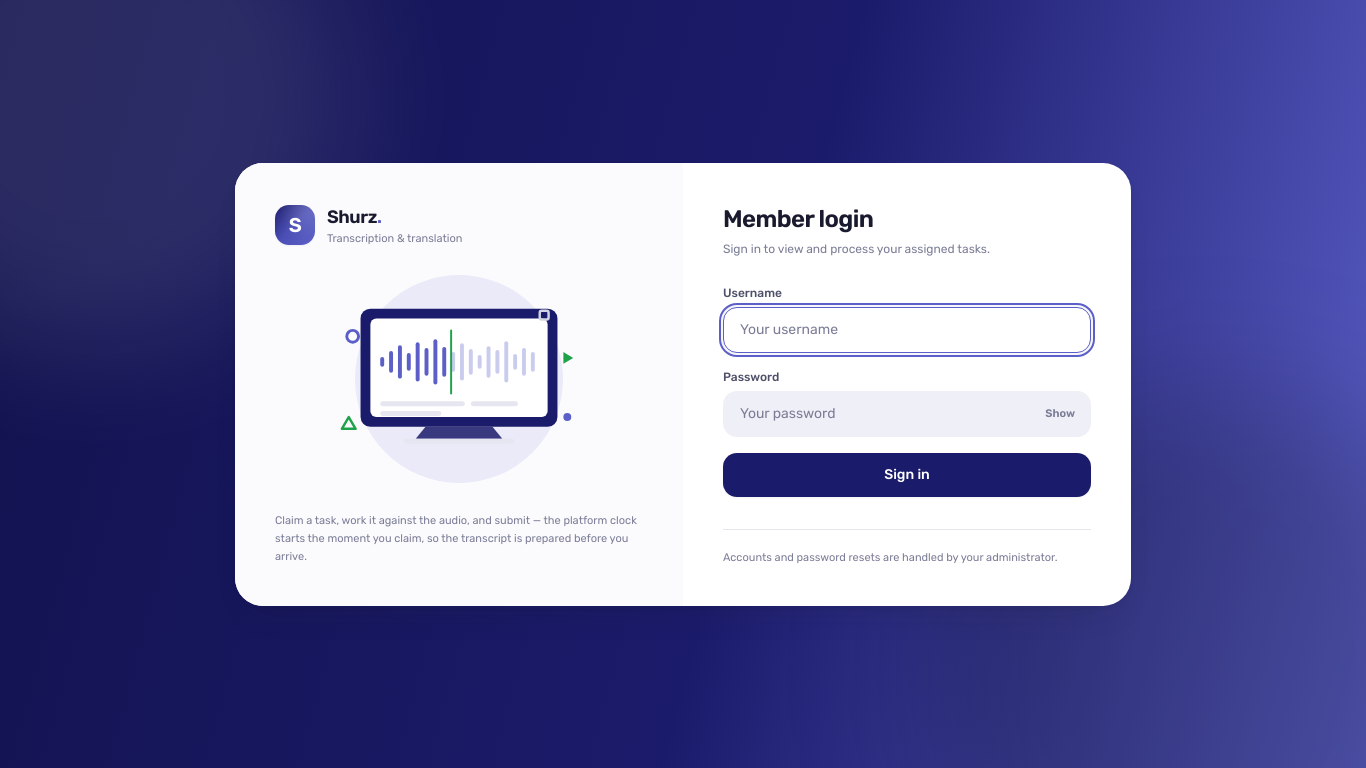
Scenario: a 401 from the auth endpoints is an answer, not an expiry › shows the server's reason for a rejected sign-in
Type "ana" into the field labelled "Username" at point(907, 330), box [723,306,1091,352]
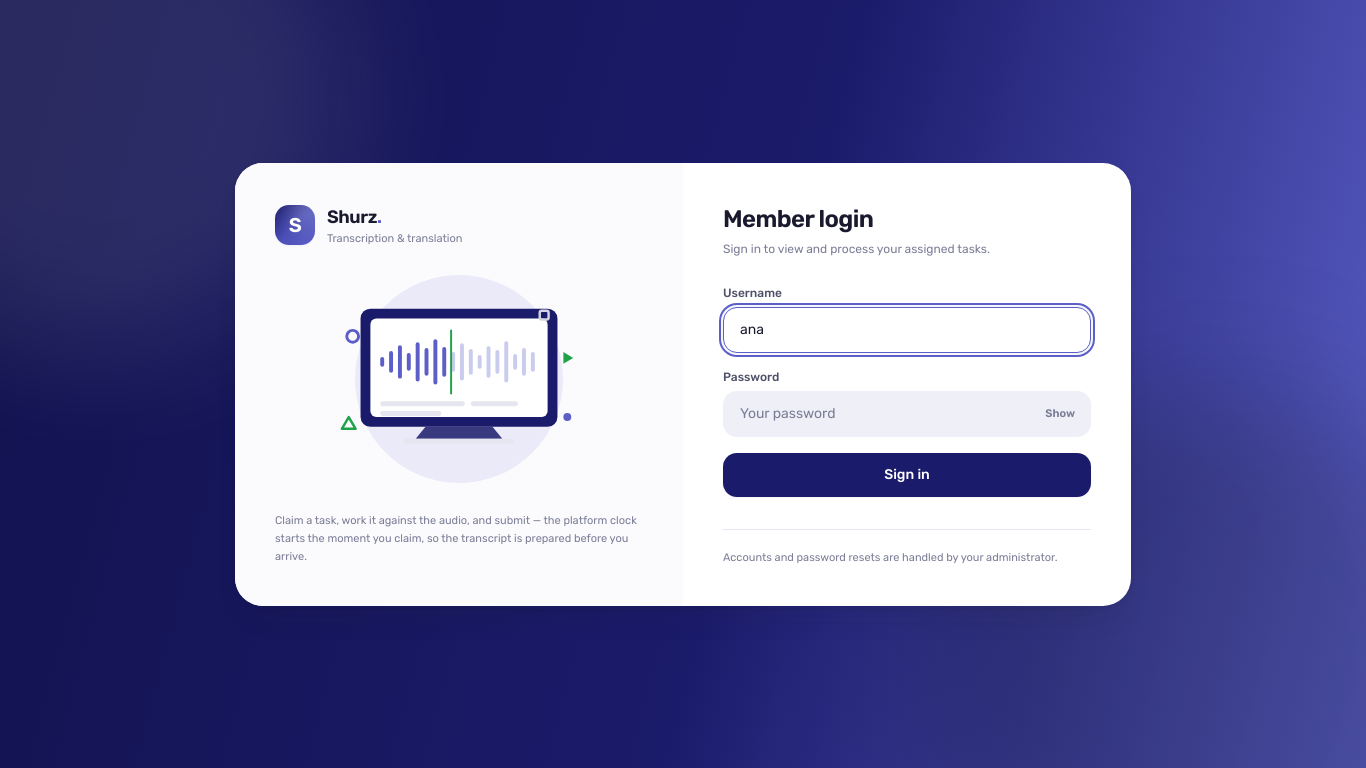
Type "wrong" into the password field labelled "Password" at point(907, 414), box [723,390,1091,436]
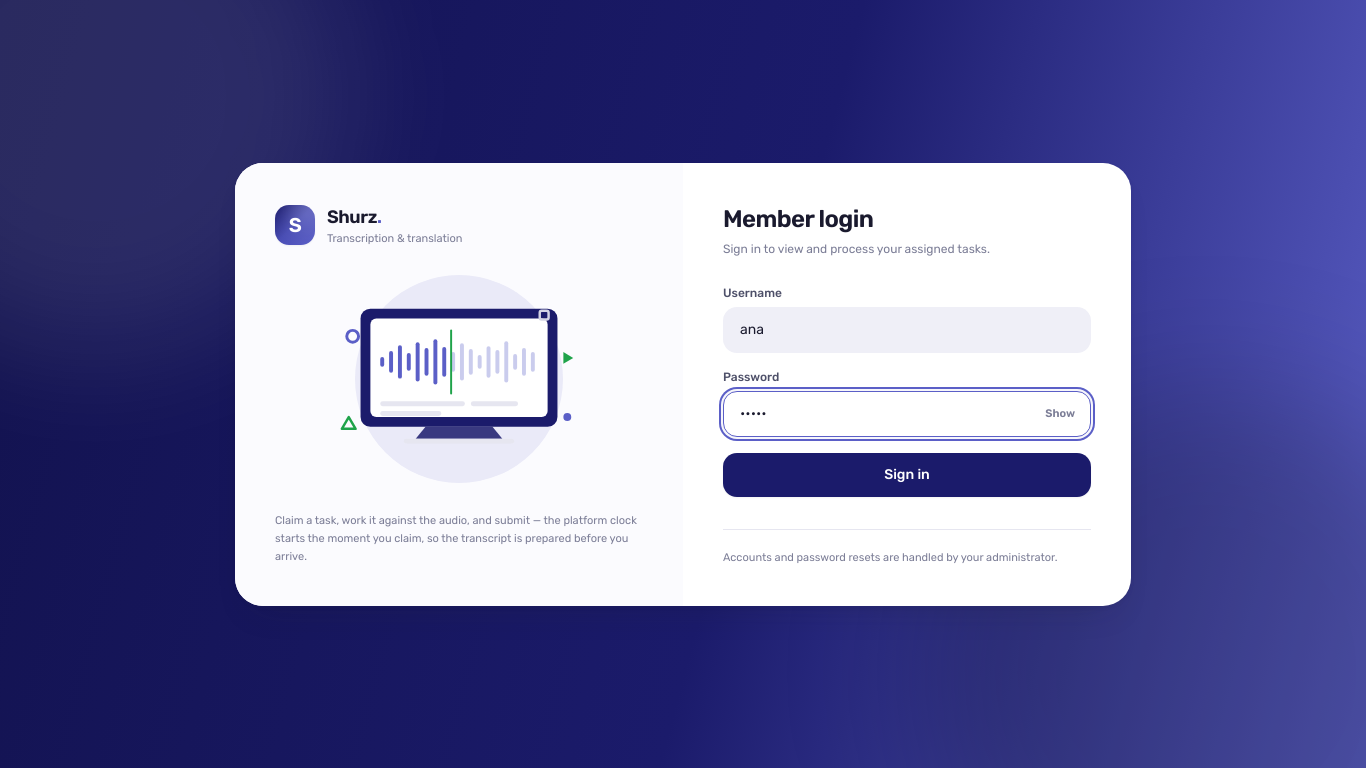
Click the button "Sign in" at point(907, 474), box [723,452,1091,496]
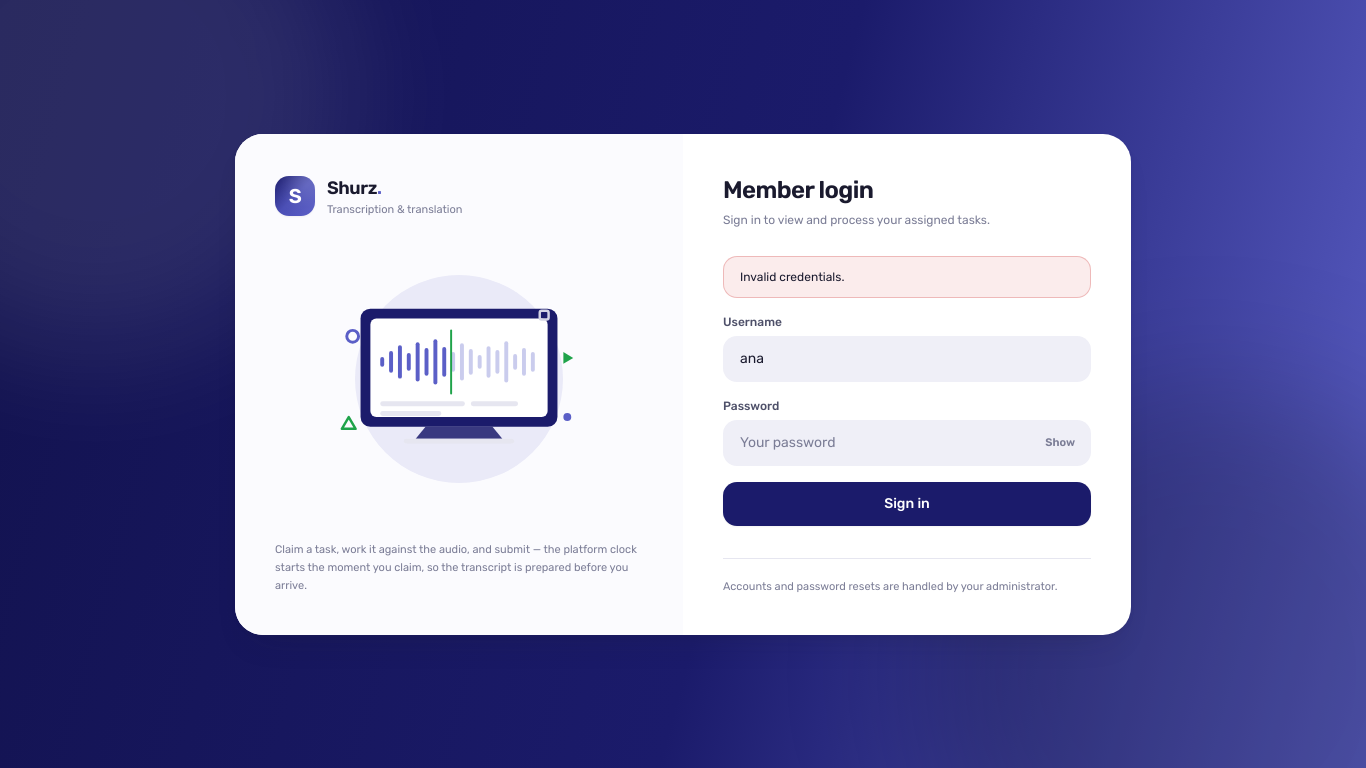
Expected: the message reads "Invalid credentials.", [740,270,844,284]
